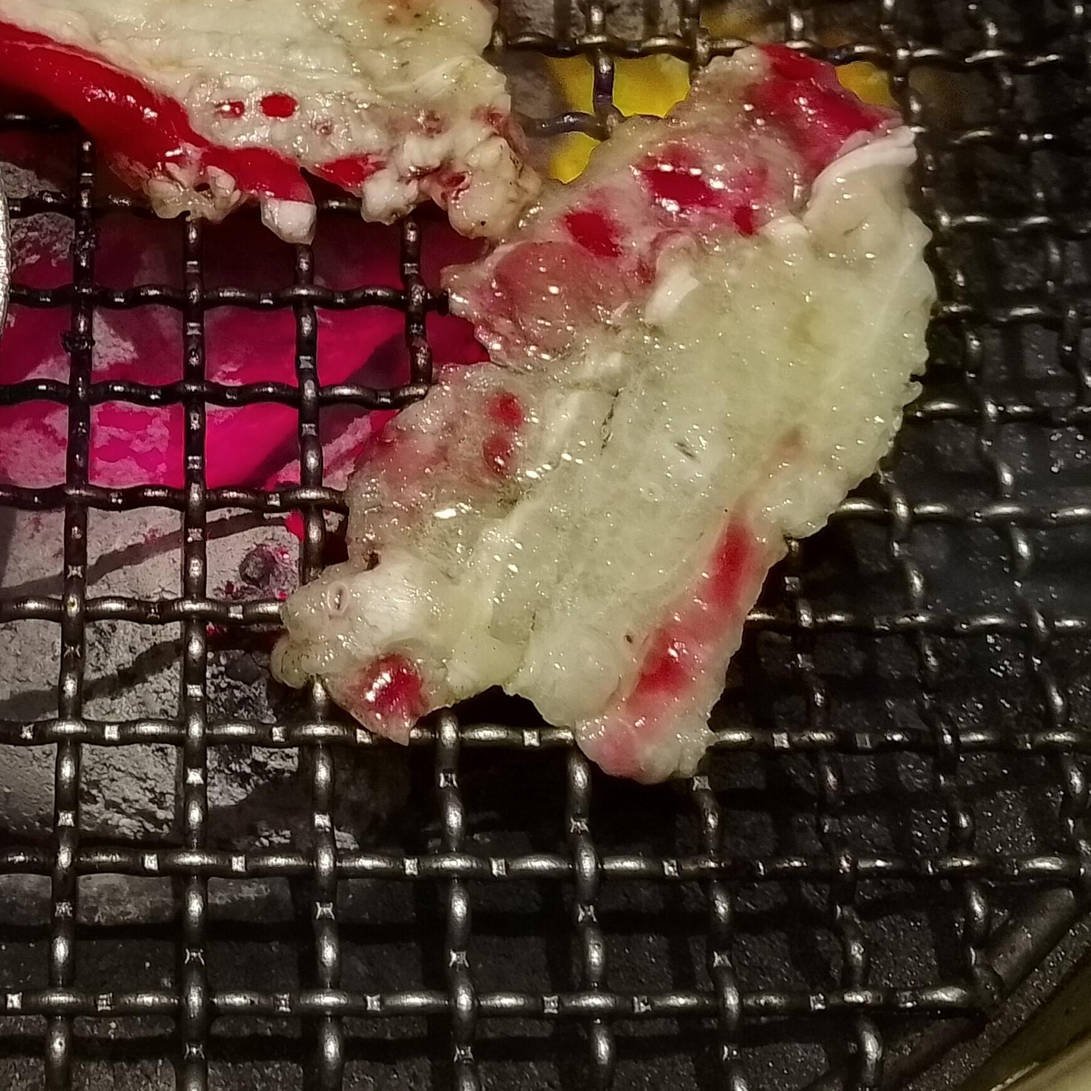Undercooked: (271, 45, 935, 784), (0, 0, 540, 243)
